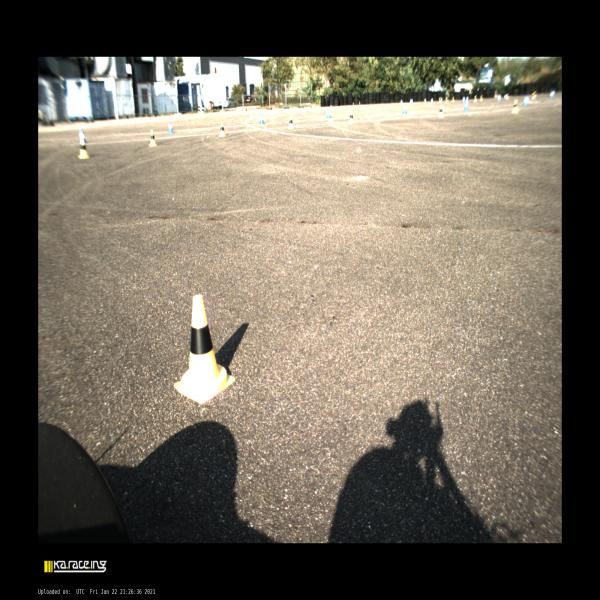blue_cone: (168, 120, 173, 132), (402, 104, 407, 114), (464, 100, 468, 111), (326, 108, 330, 118), (523, 96, 527, 106), (260, 114, 264, 123), (549, 92, 553, 98), (497, 95, 500, 102), (462, 97, 465, 103), (400, 99, 403, 105), (430, 98, 433, 104), (409, 99, 412, 104), (424, 98, 426, 103)
yellow_cone: (174, 294, 235, 405), (78, 138, 88, 158), (218, 122, 226, 137), (149, 130, 156, 146), (437, 106, 444, 118), (512, 100, 518, 114), (288, 117, 294, 130), (348, 112, 353, 124), (473, 96, 477, 103), (531, 93, 535, 99), (438, 98, 441, 104), (445, 97, 448, 103), (451, 97, 454, 103), (480, 96, 482, 101)
